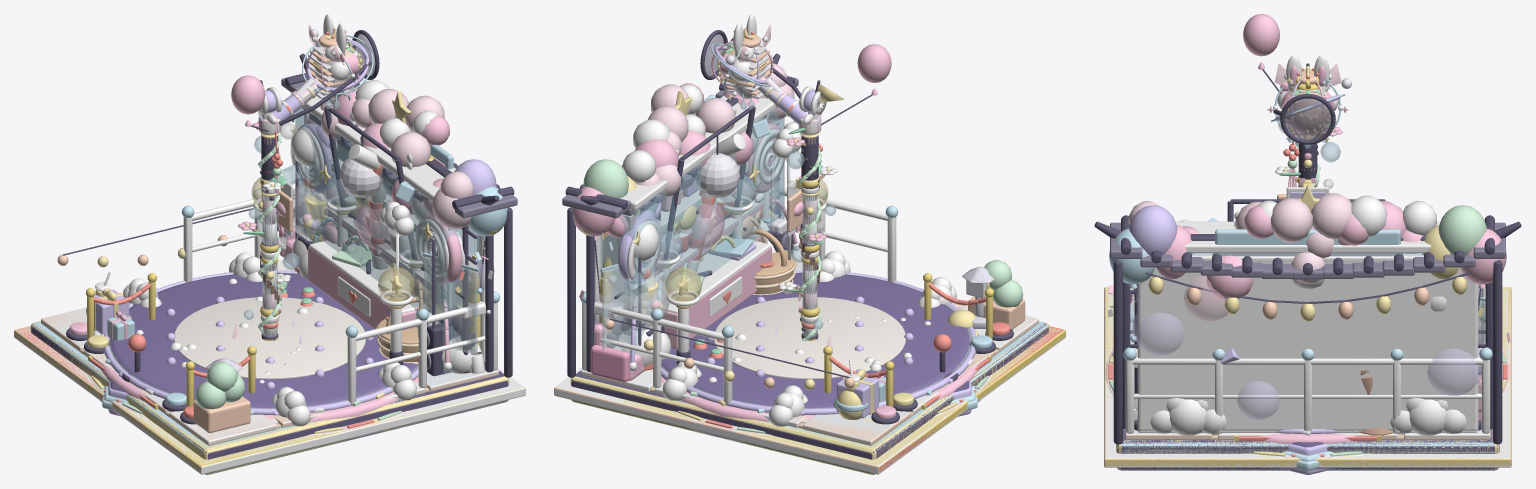
File: Cosmetics.fbx
The picture shows the model from 3 angles, left to right: view 1: azimuth 30°, elevation 25°; view 2: azimuth 150°, elevation 25°; view 3: azimuth 270°, elevation 25°; orthographic projection. The views are drawn at different scales.
Visible parts, largest first — view 1: Aquarium_6FC3EA_Glass, MidnightVelvet_3B2F63, HanRiver_F3EBDD, RooftopStage_FFFFFF, CherryBlossomStage_FFC9DD, PastelCloud_FFFFFF, BananaMilk_FFE07A, BananaMilk_FFFFFF_Neon, AwardNight_2B2346, HologramStage_C9F2FF_Glass, Cream_FFFFFF, CherryBlossomStage_FFFFFF (+57 smaller); view 2: Aquarium_6FC3EA_Glass, MidnightVelvet_3B2F63, HanRiver_F3EBDD, RooftopStage_FFFFFF, PastelCloud_FFFFFF, BananaMilk_FFE07A, AwardNight_2B2346, CherryBlossomStage_FFC9DD, FanMeetStage_FF9EC4, CherryBlossomStage_FFFFFF, HologramStage_C9F2FF_Glass, BananaMilk_FFFFFF_Neon (+51 smaller); view 3: PracticeRoom_FFFFFF, RooftopStage_FFFFFF, Bubblegum_B9A6FF_Glass, HanbokStage_4A4460, AwardNight_2B2346, RooftopStage_1E1B2E, CherryBlossomStage_FFC9DD, PastelCloud_FFFFFF, RooftopStage_FFFFFF_Neon, AwardNight_F5C542_Neon, CherryBlossomStage_FF9EC4, RooftopStage_9ED8F5 (+28 smaller).
Boxes of the visible parts, x1=… form: Aquarium_6FC3EA_Glass: x1=295, y1=107, x2=478, y2=373; MidnightVelvet_3B2F63: x1=109, y1=272, x2=418, y2=408; HanRiver_F3EBDD: x1=174, y1=297, x2=365, y2=379; RooftopStage_FFFFFF: x1=83, y1=189, x2=497, y2=445; CherryBlossomStage_FFC9DD: x1=320, y1=88, x2=472, y2=229; PastelCloud_FFFFFF: x1=123, y1=201, x2=416, y2=426; BananaMilk_FFE07A: x1=30, y1=240, x2=509, y2=474; BananaMilk_FFFFFF_Neon: x1=14, y1=330, x2=525, y2=472; AwardNight_2B2346: x1=31, y1=324, x2=508, y2=474; HologramStage_C9F2FF_Glass: x1=301, y1=167, x2=477, y2=355; Cream_FFFFFF: x1=135, y1=144, x2=477, y2=389; CherryBlossomStage_FFFFFF: x1=291, y1=80, x2=438, y2=221; Aquarium_6FC3EA_Glass: x1=601, y1=108, x2=784, y2=353; MidnightVelvet_3B2F63: x1=661, y1=272, x2=970, y2=408; HanRiver_F3EBDD: x1=714, y1=297, x2=905, y2=379; RooftopStage_FFFFFF: x1=581, y1=187, x2=1038, y2=427; PastelCloud_FFFFFF: x1=662, y1=122, x2=956, y2=426; BananaMilk_FFE07A: x1=570, y1=256, x2=1049, y2=474; AwardNight_2B2346: x1=571, y1=323, x2=1048, y2=474; CherryBlossomStage_FFC9DD: x1=636, y1=63, x2=794, y2=197; FanMeetStage_FF9EC4: x1=572, y1=89, x2=885, y2=399; CherryBlossomStage_FFFFFF: x1=616, y1=84, x2=758, y2=262; HologramStage_C9F2FF_Glass: x1=602, y1=165, x2=778, y2=350; BananaMilk_FFFFFF_Neon: x1=554, y1=330, x2=1065, y2=472; PracticeRoom_FFFFFF: x1=1137, y1=253, x2=1478, y2=430; RooftopStage_FFFFFF: x1=1125, y1=285, x2=1490, y2=439; Bubblegum_B9A6FF_Glass: x1=1132, y1=312, x2=1481, y2=419; HanbokStage_4A4460: x1=1110, y1=222, x2=1505, y2=279; AwardNight_2B2346: x1=1116, y1=428, x2=1499, y2=470; RooftopStage_1E1B2E: x1=1113, y1=260, x2=1502, y2=444; CherryBlossomStage_FFC9DD: x1=1128, y1=193, x2=1351, y2=283; PastelCloud_FFFFFF: x1=1150, y1=219, x2=1481, y2=435; RooftopStage_FFFFFF_Neon: x1=1104, y1=287, x2=1511, y2=465; AwardNight_F5C542_Neon: x1=1105, y1=287, x2=1510, y2=465; CherryBlossomStage_FF9EC4: x1=1182, y1=201, x2=1423, y2=300; RooftopStage_9ED8F5: x1=1121, y1=284, x2=1494, y2=470.
Size of the model in its own units: 5.42 by 5.31 by 5.52.
